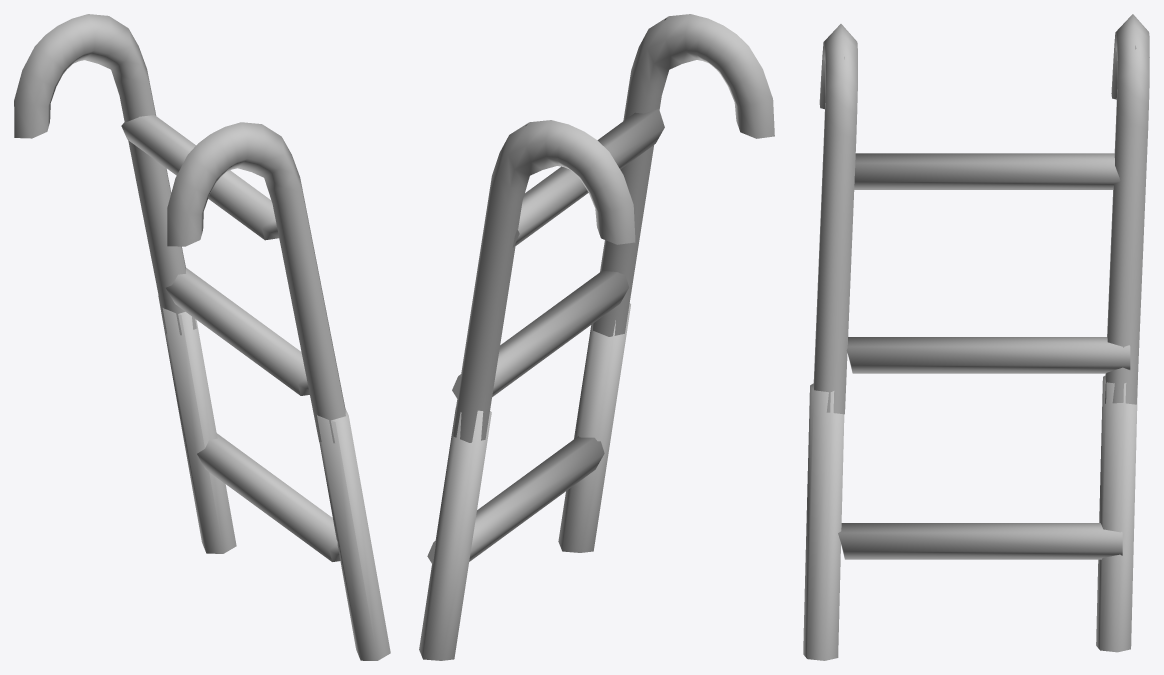
The model's file is Candy.obj.
3 views of the same model, side by side, from view 1: azimuth 30°, elevation 25°; view 2: azimuth 150°, elevation 25°; view 3: azimuth 270°, elevation 25° (orthographic). The views are drawn at different scales.
Visible parts, largest first — view 1: weapon_010; view 2: weapon_010; view 3: weapon_010.
Part boxes in pixels (<box>): weapon_010: <box>14,14,390,660</box>; weapon_010: <box>419,14,774,660</box>; weapon_010: <box>803,14,1149,660</box>.
Size of the model in its own units: 1.06 by 2.53 by 1.4.
Materials: 1 (1 with a texture image).
